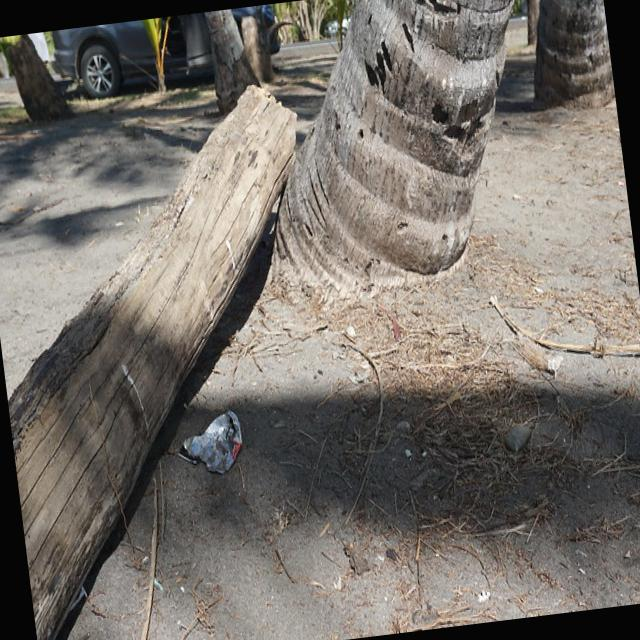Trash: (177, 408, 248, 478)
